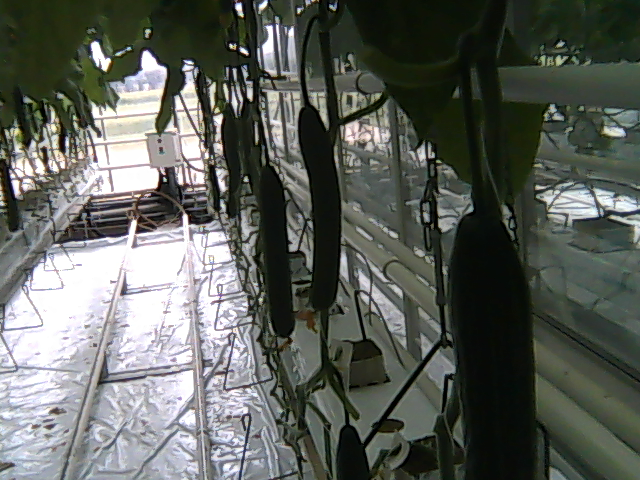concombre: (445, 197, 540, 480), (294, 99, 345, 335), (256, 158, 297, 341)
